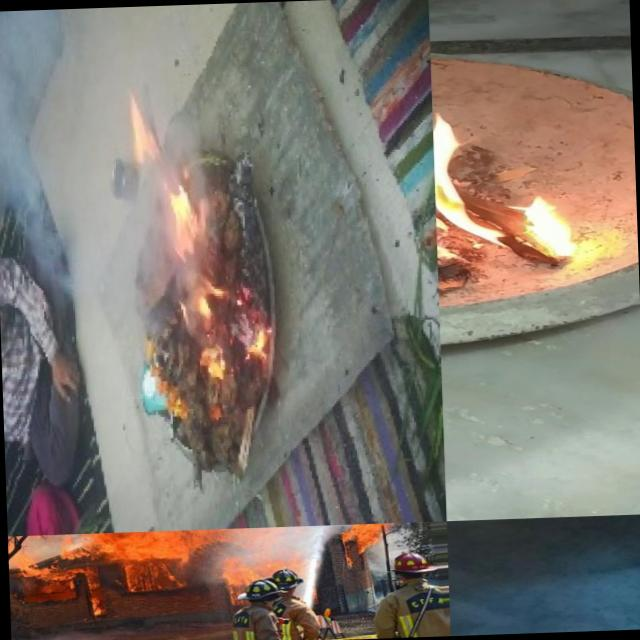fire: (432, 98, 615, 274), (123, 89, 215, 258), (37, 527, 263, 560), (7, 534, 81, 585), (116, 556, 194, 592), (187, 271, 223, 335), (345, 522, 416, 553), (237, 324, 281, 364), (192, 344, 234, 384), (224, 555, 268, 582), (84, 569, 103, 619)
smoke: (0, 7, 126, 261), (32, 258, 186, 340)
